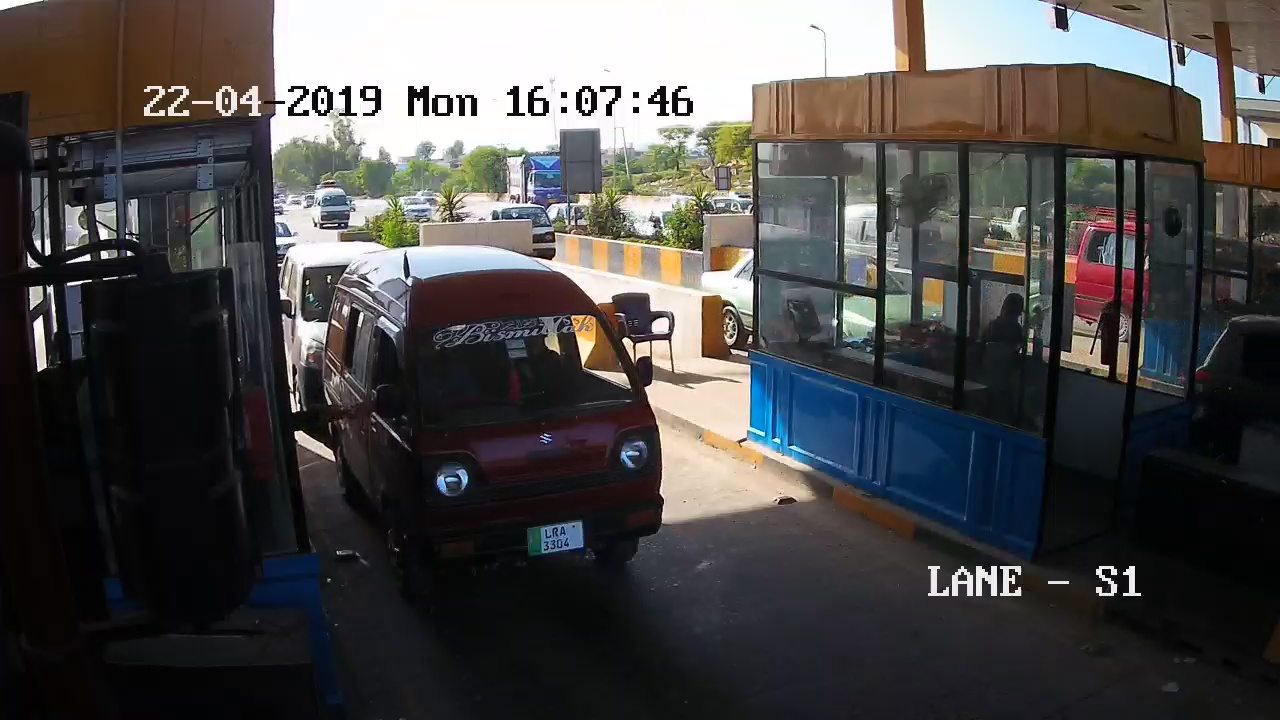Number Plate (Car): (523, 522, 579, 552)
